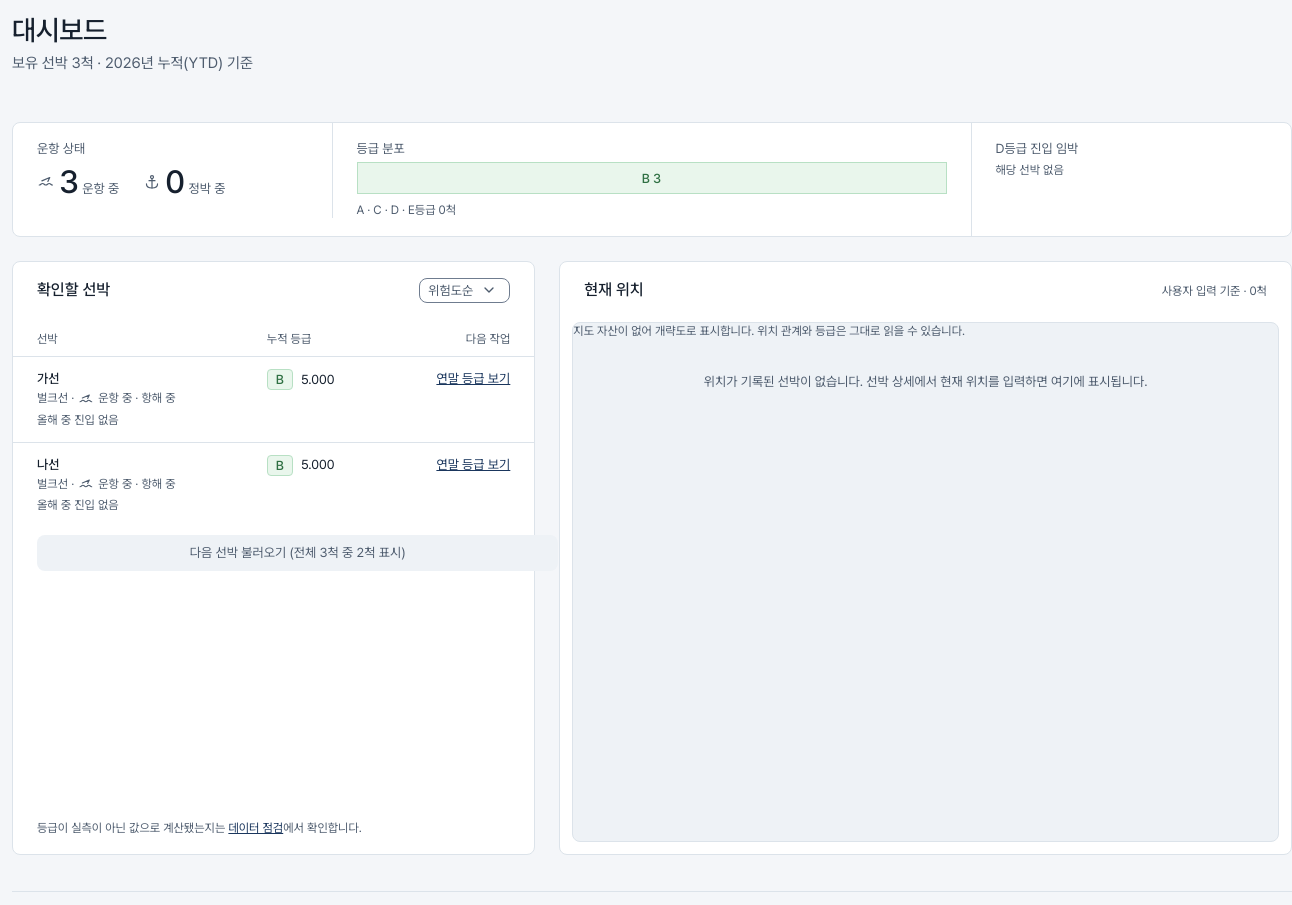
Scenario: 선대 대시보드 — 서버 정렬·페이지 (#772) › 다음 페이지를 같은 정렬·첫 페이지의 기준 시각으로 물어 뒤에 붙인다
The image size is (1292, 905).
Click the button "다음 선박 불러오기 (전체 3척 중 2척 표시)" at (298, 553), box [37, 535, 558, 571]
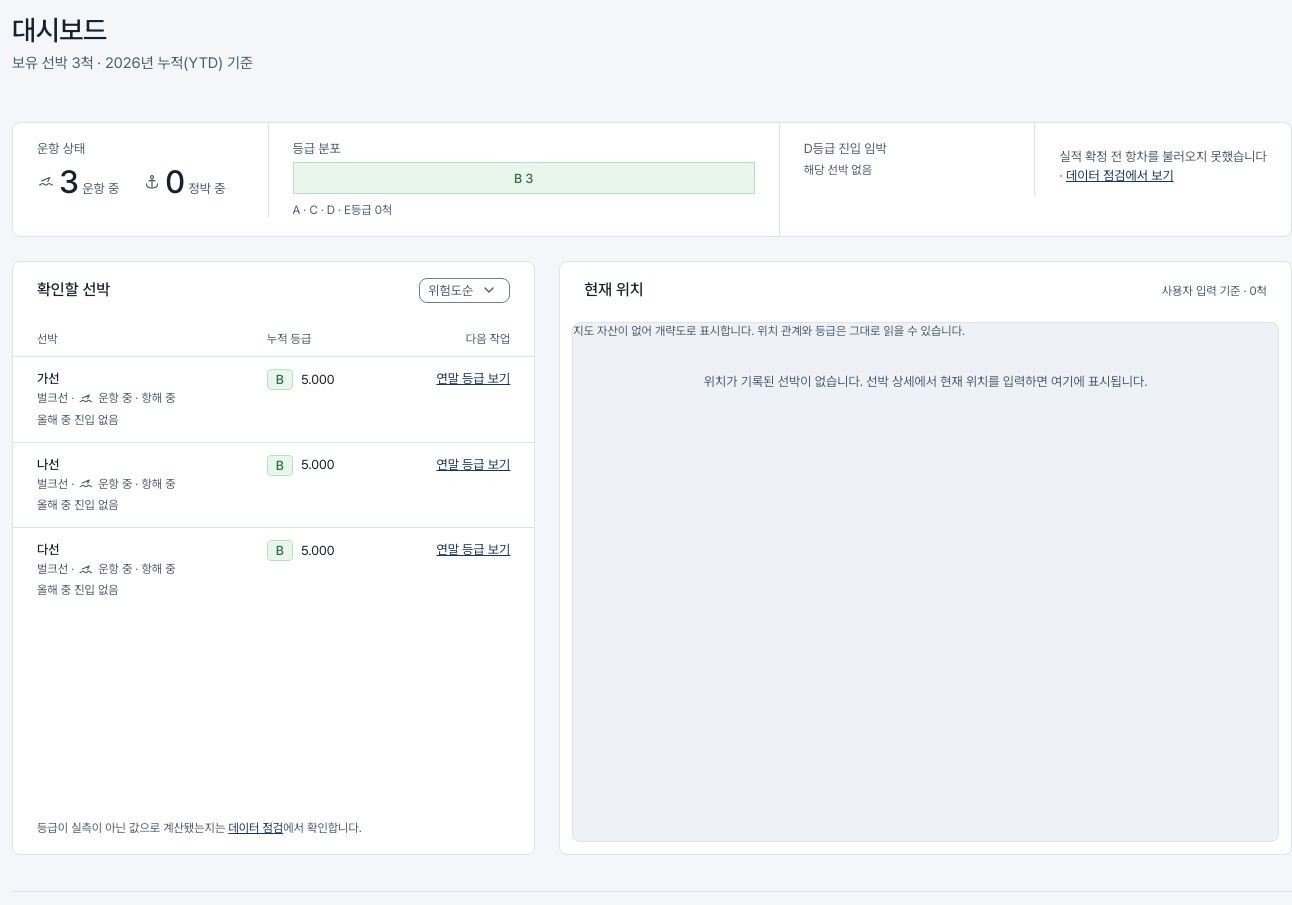
expect the link "가선" is shown: met, box [37, 369, 60, 388]
expect the link "다선" is shown: met, box [37, 540, 60, 559]
expect the button "다음 선박 불러오기" is gone: met
